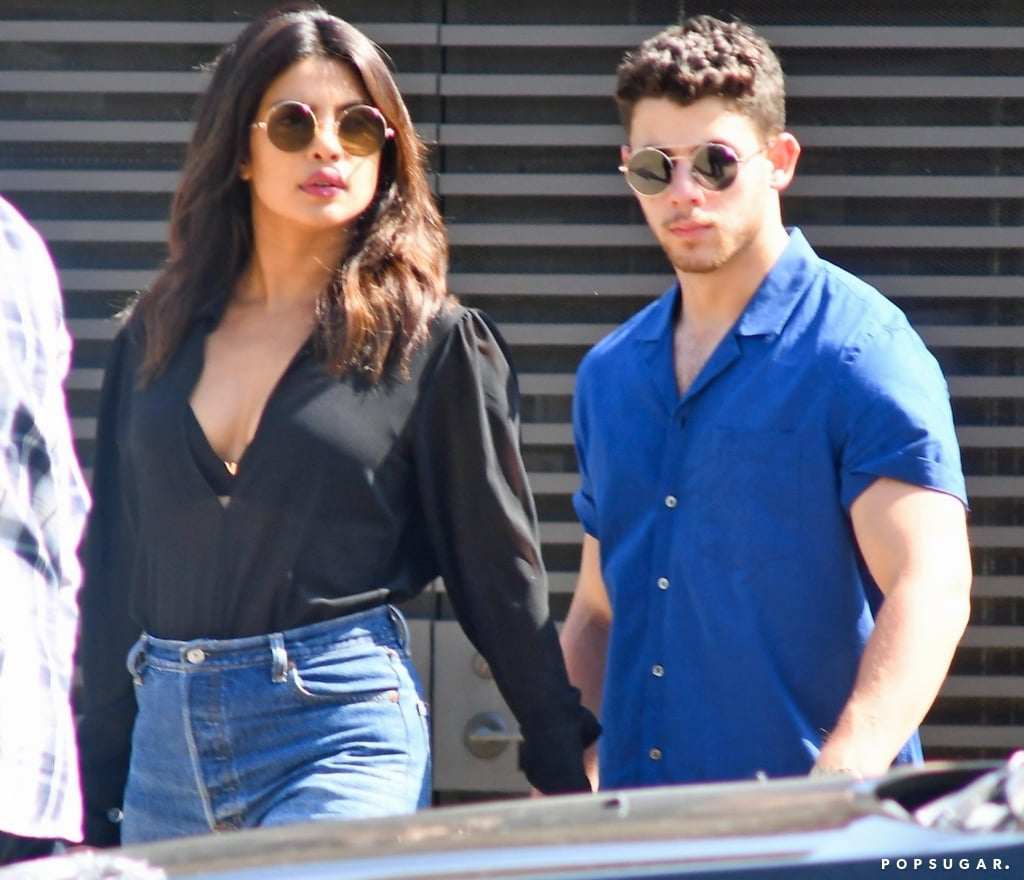jeans: (111, 625, 428, 822)
sunglasses: (237, 102, 392, 164), (617, 144, 741, 196)
